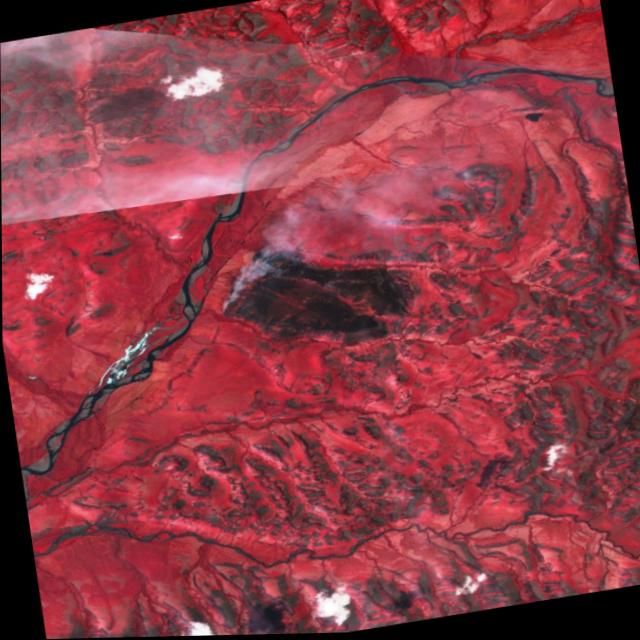fire: (193, 221, 418, 371)
